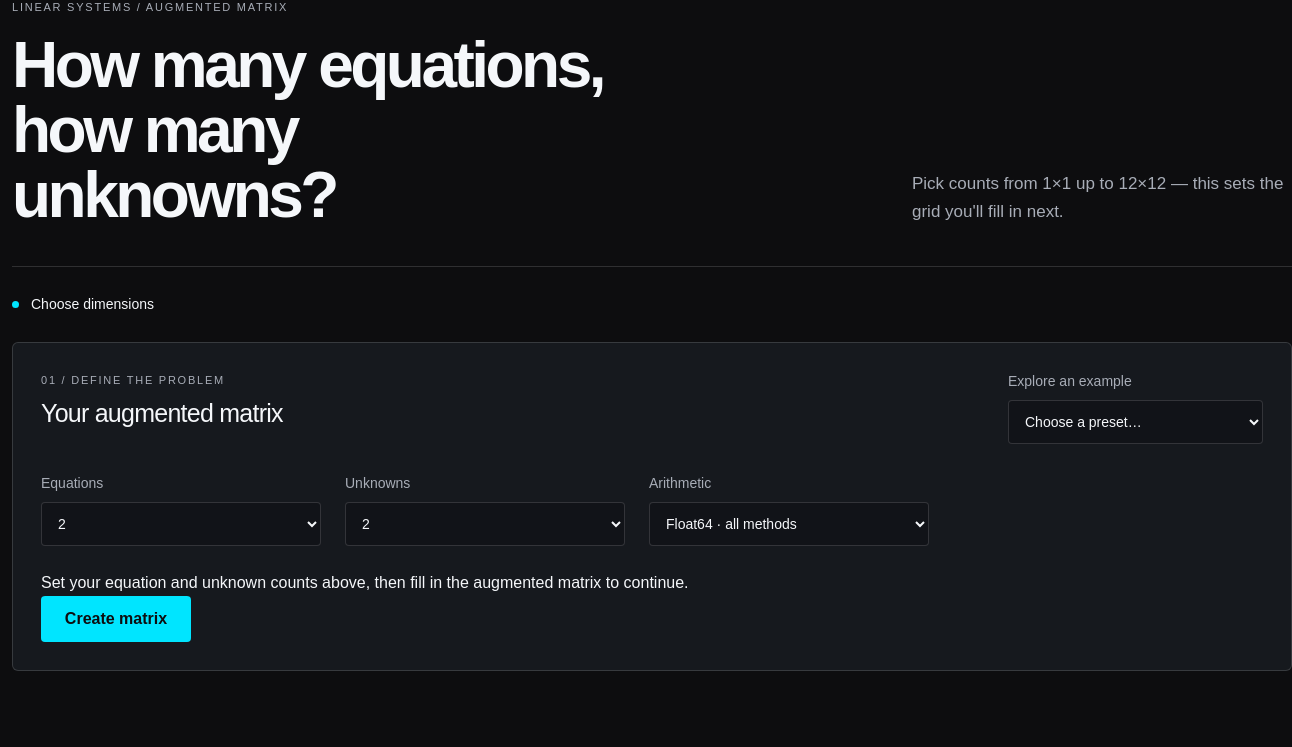
Test: API cell errors map to inputs, keep correlation ID, and can be retried
Select "Unique · a gentle start" in the dropdown labelled "Explore an example" at (1136, 422), box [1008,400,1263,444]
(page scrolled)
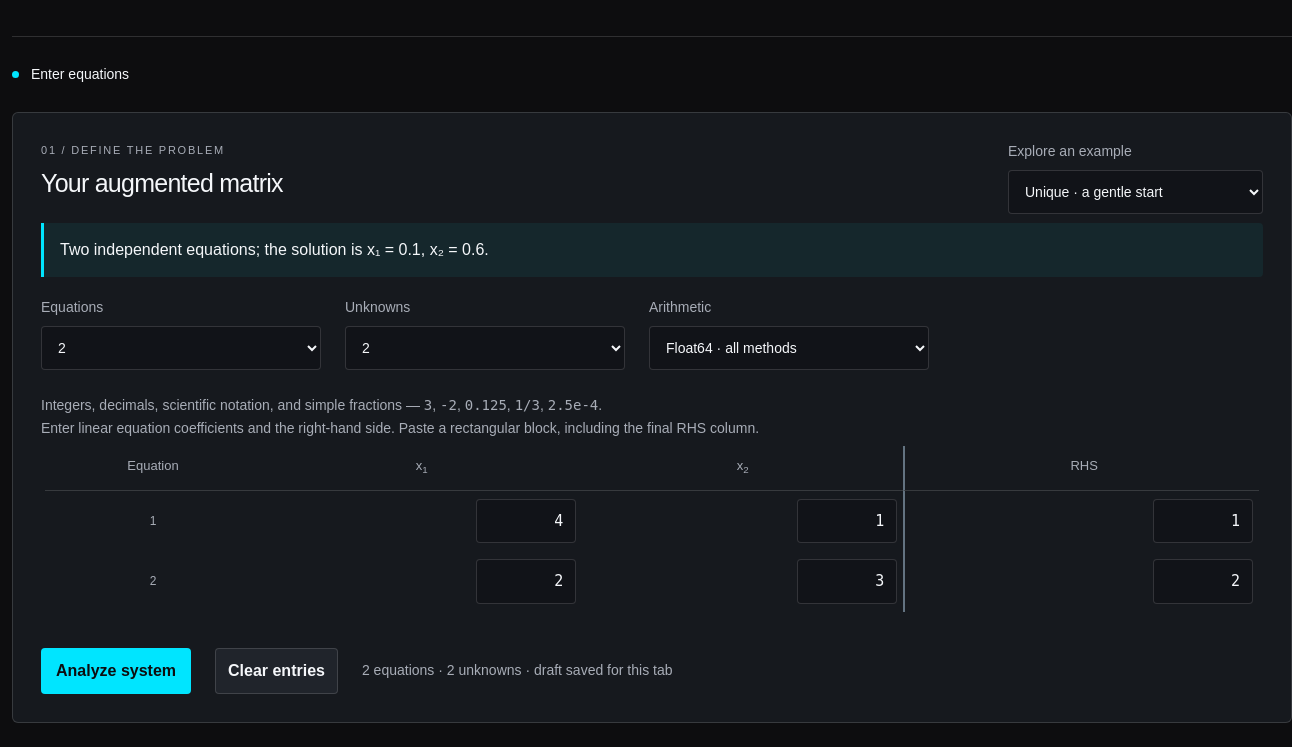
Click the button "Analyze system" at (116, 671), box [41,648,191,694]
(page scrolled)
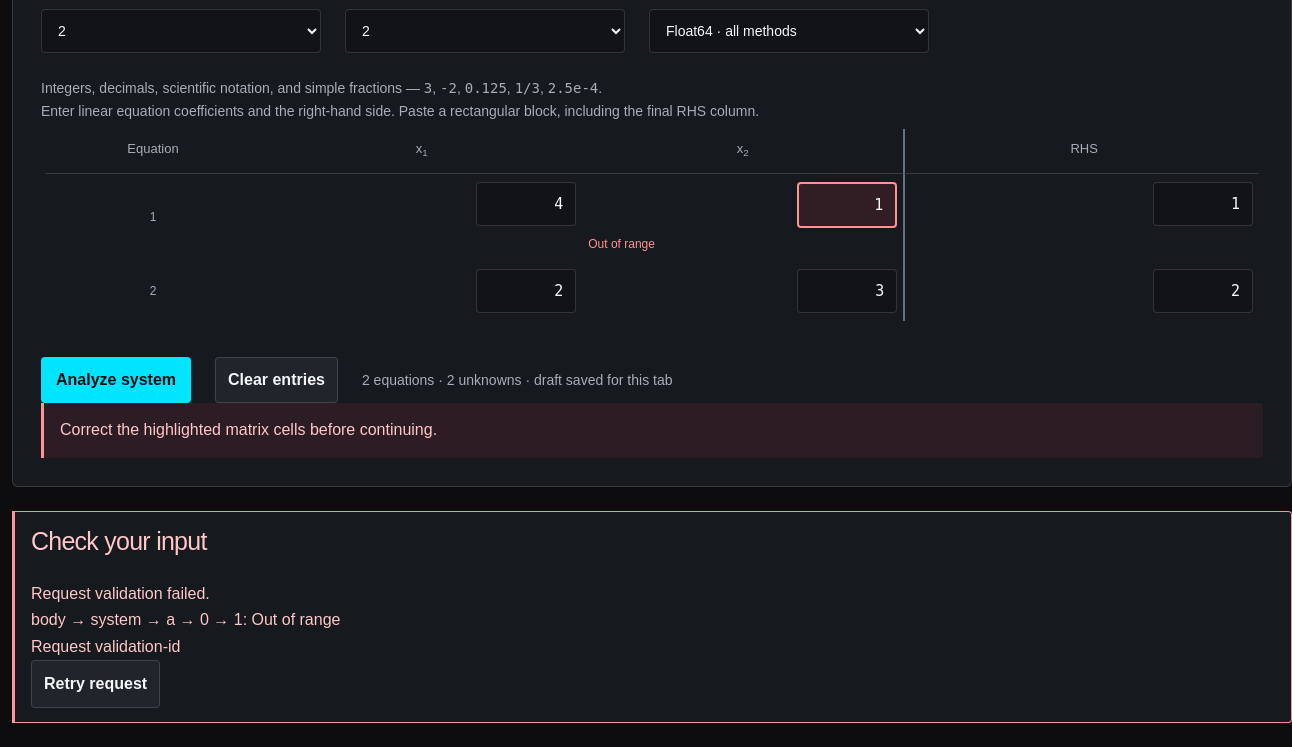
Expected: the heading "Check your input" is shown, [31,527,207,555]
Expected: the text "Request validation-id" is shown, [31,638,180,655]
Click the button "Retry request" at (96, 684), box [31,660,160,708]
(page scrolled)
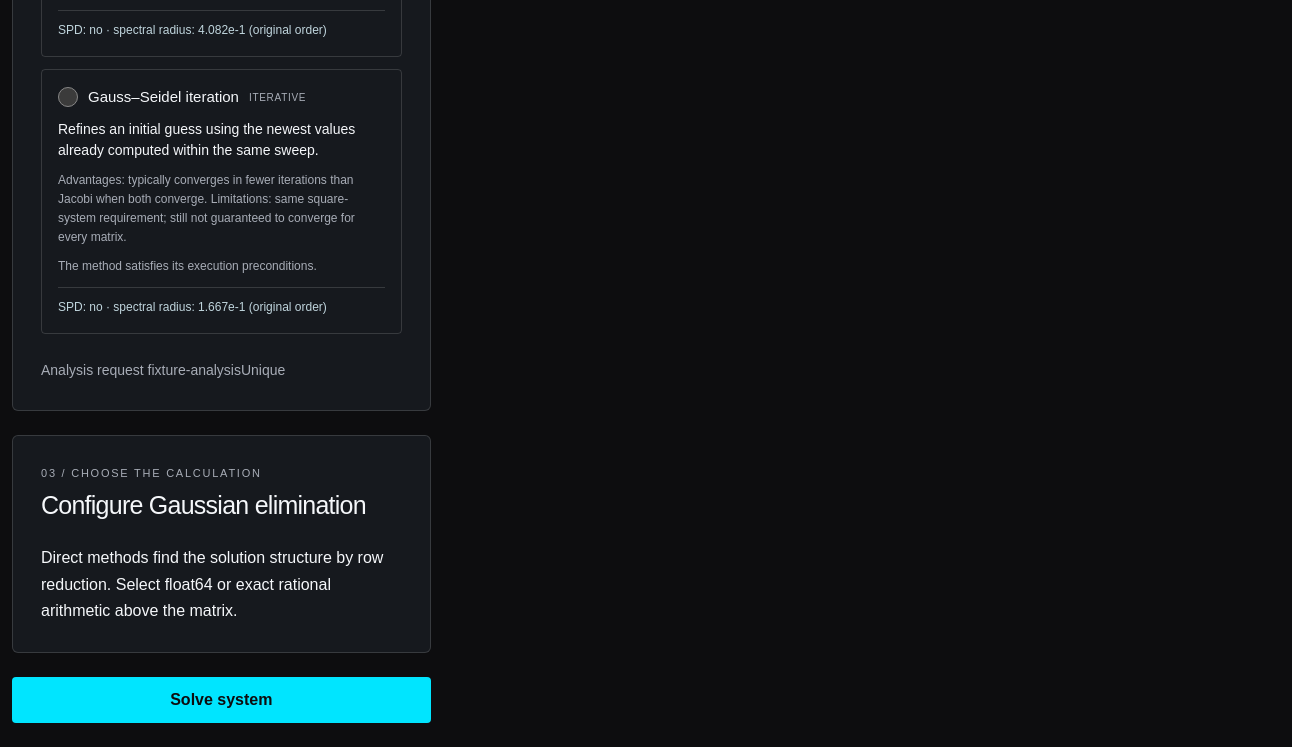
Expected: the heading "Configure Gaussian elimination" is shown, [41,490,402,521]
